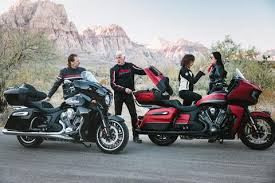motorcycle: (132, 64, 275, 151), (3, 71, 127, 156)
